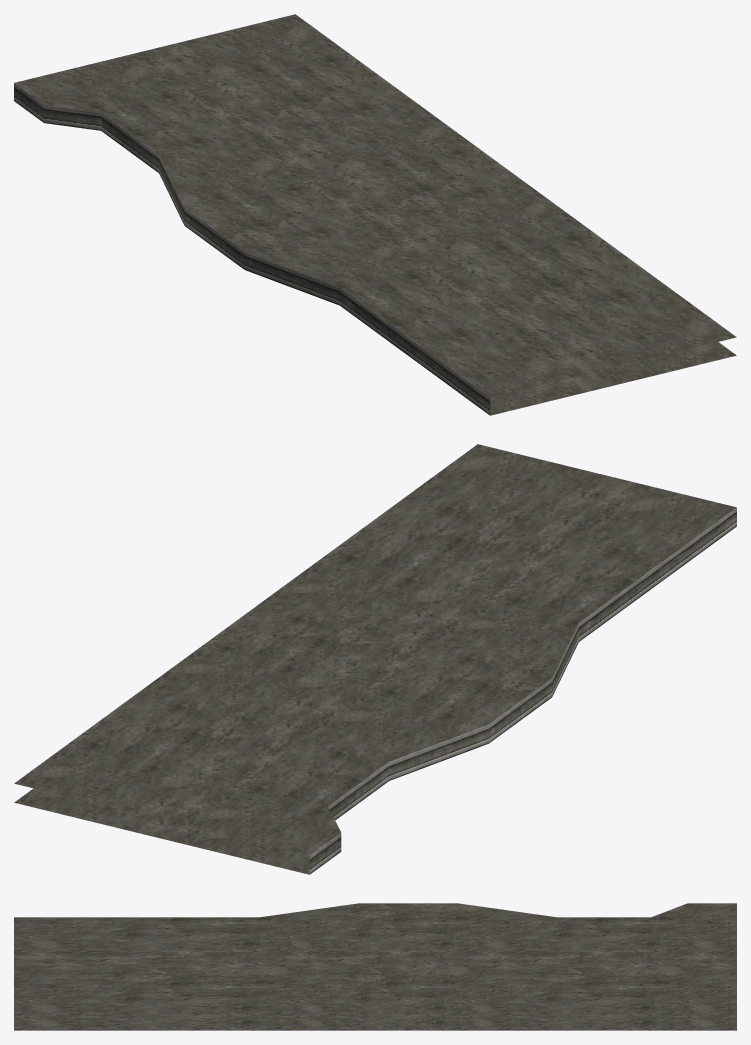
Rendered from DWARF_PALACE_FORGE_UPPER_FLOOR01.fbx.
3 renders of one model, top to bottom at view 1: azimuth 30°, elevation 25°; view 2: azimuth 150°, elevation 25°; view 3: azimuth 270°, elevation 25°, orthographic. The views are drawn at different scales.
Parts seen in each view (by area): view 1: DWARF_PALACE_FORGE_UPPER_FLOOR01; view 2: DWARF_PALACE_FORGE_UPPER_FLOOR01; view 3: DWARF_PALACE_FORGE_UPPER_FLOOR01.
Part boxes in pixels (box(x1,y1,x2,y2)): DWARF_PALACE_FORGE_UPPER_FLOOR01: box(14, 14, 736, 415); DWARF_PALACE_FORGE_UPPER_FLOOR01: box(14, 444, 736, 874); DWARF_PALACE_FORGE_UPPER_FLOOR01: box(14, 903, 736, 1030).
Size of the model in its own units: 81000 by 5000 by 220008.
2 materials, 2 textured.
